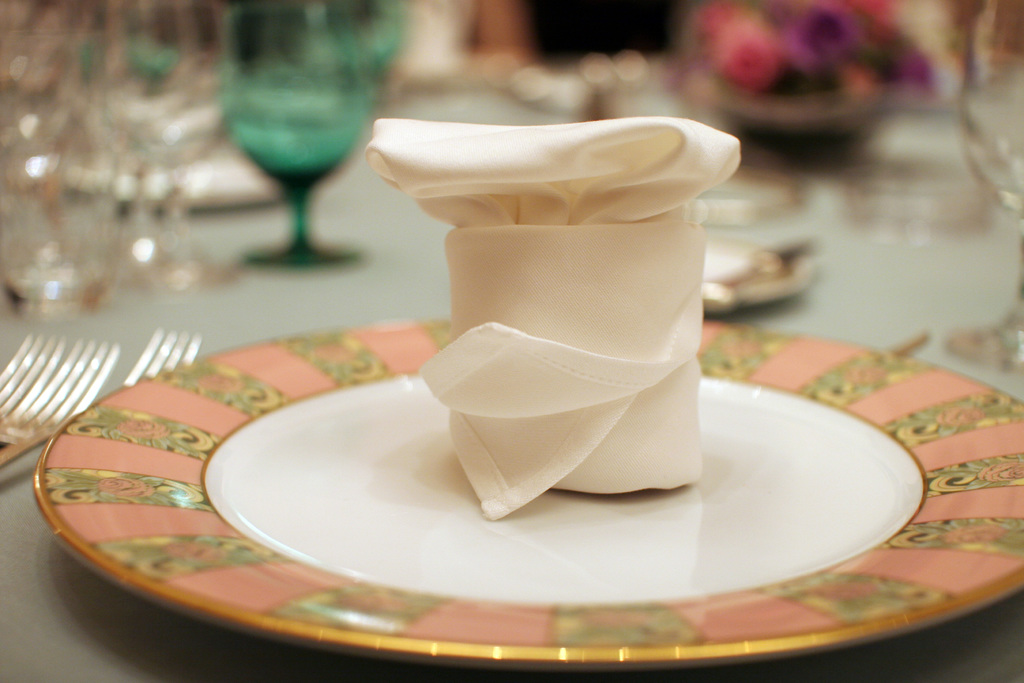plate: (688, 246, 814, 329)
